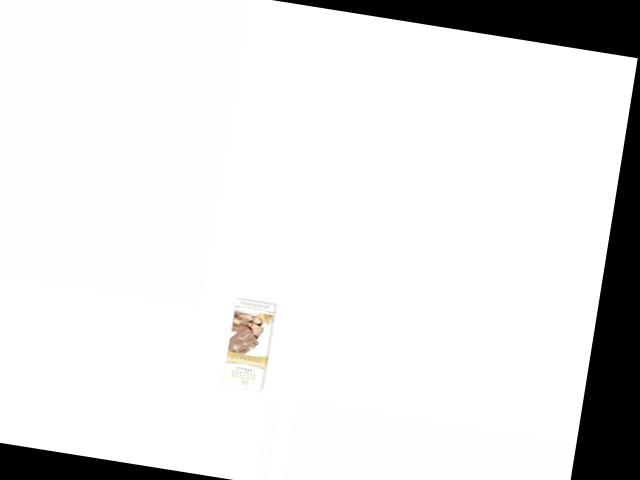chocolate: (212, 296, 284, 398)
